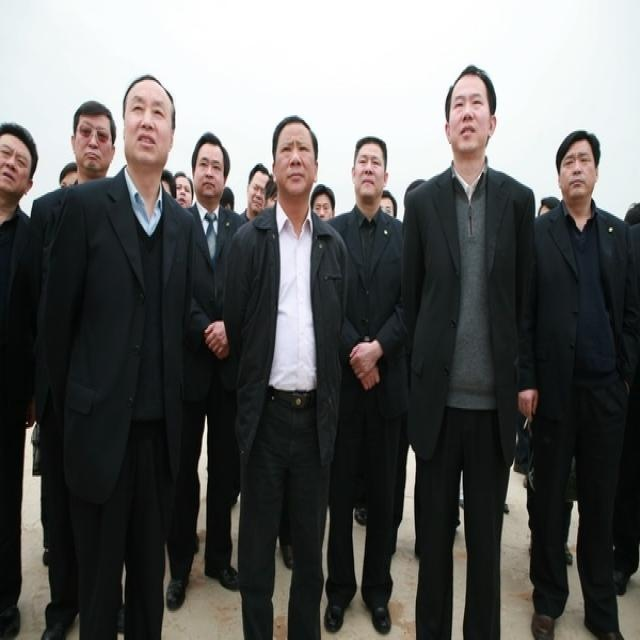Sin_Casco_Mascarrilla: (121, 75, 176, 174), (443, 65, 498, 151), (271, 115, 320, 200)
Sin_Chaleco: (402, 169, 539, 399), (228, 205, 346, 420)
